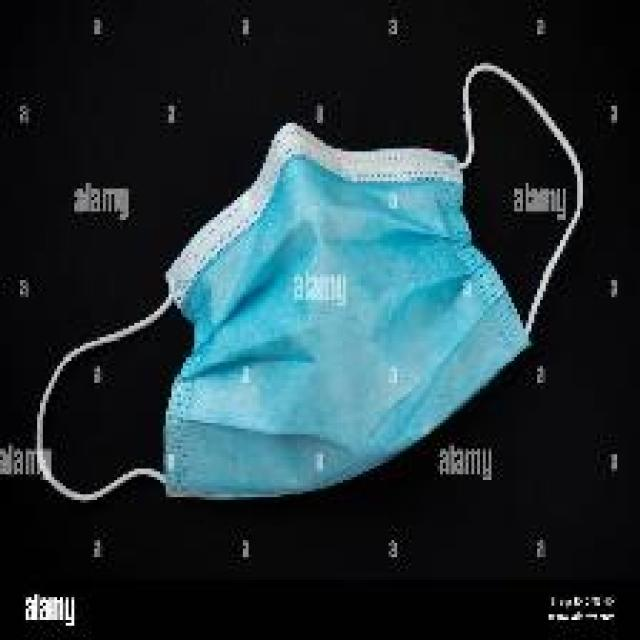Mask: (40, 92, 599, 494)
